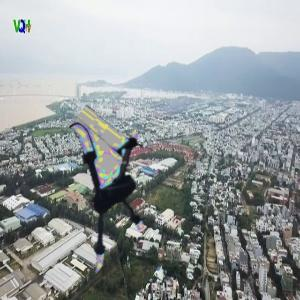drone: (35, 126, 179, 270)
